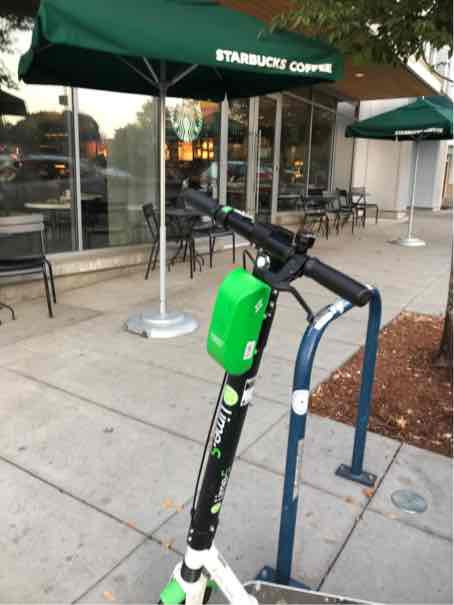scooter: (128, 166, 445, 605)
